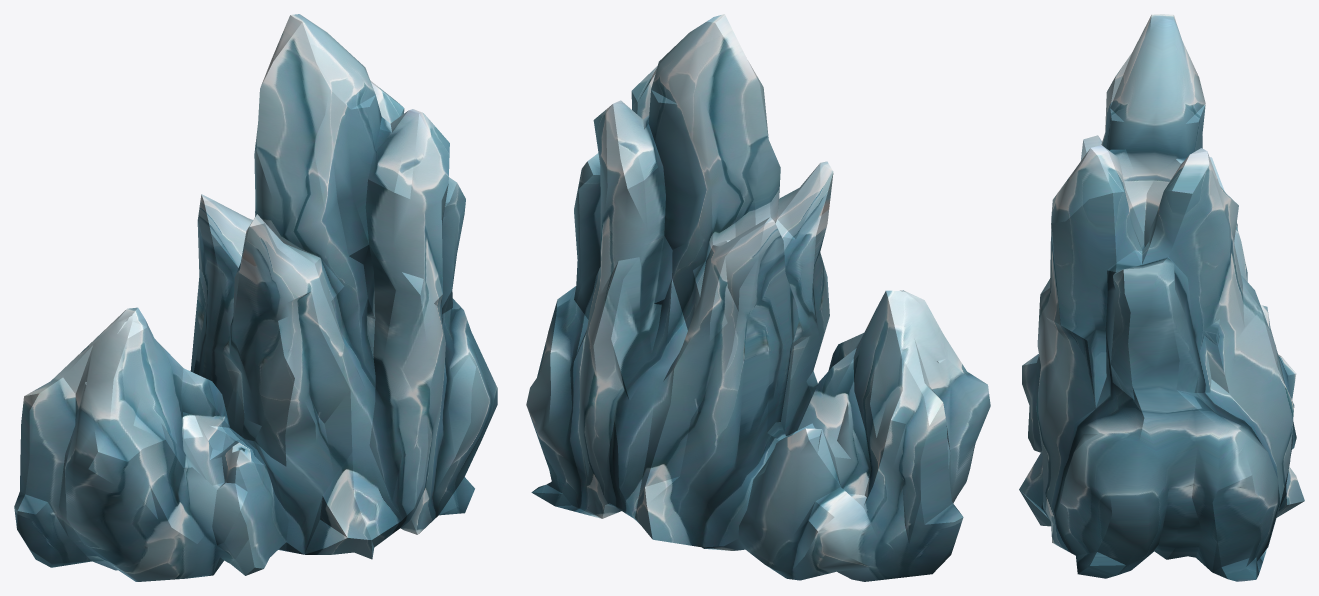
3 views of the same model, side by side, from view 1: azimuth 30°, elevation 25°; view 2: azimuth 150°, elevation 25°; view 3: azimuth 270°, elevation 25° (orthographic). The views are drawn at different scales.
Parts seen in each view (by area): view 1: IceCluster; view 2: IceCluster; view 3: IceCluster.
Boxes of the visible parts, x1=… form: IceCluster: x1=14, y1=14, x2=497, y2=581; IceCluster: x1=526, y1=14, x2=990, y2=581; IceCluster: x1=1019, y1=14, x2=1304, y2=581.
Size of the model in its own units: 418 by 458 by 233.
1 material, 1 textured.
